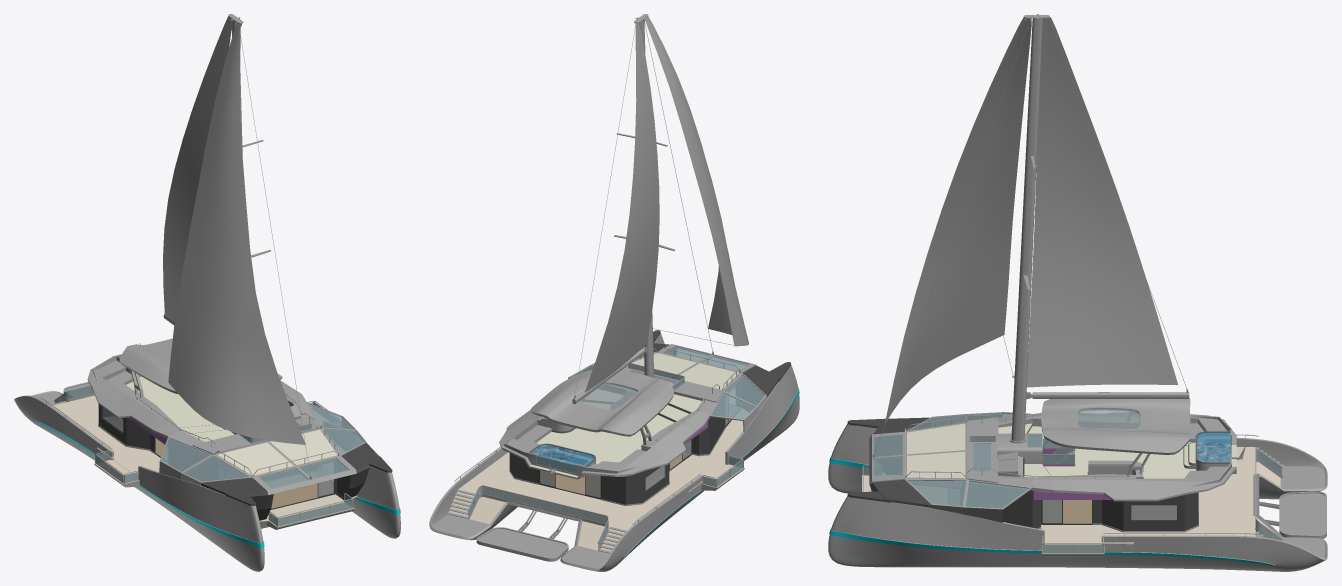
Rendered from VR_Yacht_Exterior_02.fbx.
The picture shows the model from 3 angles, left to right: view 1: azimuth 30°, elevation 25°; view 2: azimuth 150°, elevation 25°; view 3: azimuth 270°, elevation 25°; orthographic projection. The views are drawn at different scales.
Visible parts, largest first — view 1: Sails, Catamaran, Glass, Walls, polySurface219, polySurface197, polySurface1, Roof 2, polySurface124, polySurface64, polySurface109, polySurface20 (+2 smaller); view 2: Sails, polySurface1, Catamaran, polySurface197, Roof 2, Walls, Glass, polySurface219, polySurface18, polySurface64, polySurface124, polySurface85 (+10 smaller); view 3: Sails, Catamaran, polySurface197, Walls, Roof 2, polySurface85, Glass, polySurface1, polySurface219, polySurface18, polySurface124, polySurface64 (+11 smaller).
Boxes of the visible parts, <box> form: Sails: <box>163,16,305,444</box>; Catamaran: <box>14,391,400,571</box>; Glass: <box>55,386,364,526</box>; Walls: <box>98,404,392,520</box>; polySurface219: <box>159,402,366,495</box>; polySurface197: <box>87,360,313,445</box>; polySurface1: <box>52,395,357,528</box>; Roof 2: <box>119,338,178,394</box>; polySurface124: <box>111,417,333,508</box>; polySurface64: <box>41,385,353,526</box>; polySurface109: <box>192,415,321,454</box>; polySurface20: <box>266,503,354,529</box>; Sails: <box>585,16,748,392</box>; polySurface1: <box>449,397,747,551</box>; Catamaran: <box>429,333,799,571</box>; polySurface197: <box>499,400,716,479</box>; Roof 2: <box>530,370,673,436</box>; Walls: <box>509,330,790,505</box>; Glass: <box>468,346,764,549</box>; polySurface219: <box>568,344,767,431</box>; polySurface18: <box>476,527,568,561</box>; polySurface64: <box>454,347,743,551</box>; polySurface124: <box>540,405,739,497</box>; polySurface85: <box>572,14,674,404</box>; Sails: <box>885,17,1177,423</box>; Catamaran: <box>828,421,1327,571</box>; polySurface197: <box>998,412,1236,501</box>; Walls: <box>847,417,1198,532</box>; Roof 2: <box>1040,392,1190,454</box>; polySurface85: <box>1010,14,1189,443</box>; Glass: <box>864,413,1281,553</box>; polySurface1: <box>881,447,1280,544</box>; polySurface219: <box>869,412,1032,522</box>; polySurface18: <box>1279,491,1326,538</box>; polySurface124: <box>914,485,1176,523</box>; polySurface64: <box>862,415,1283,553</box>.
Bounding box in the file's own units: 2743 × 4940 × 5615.
